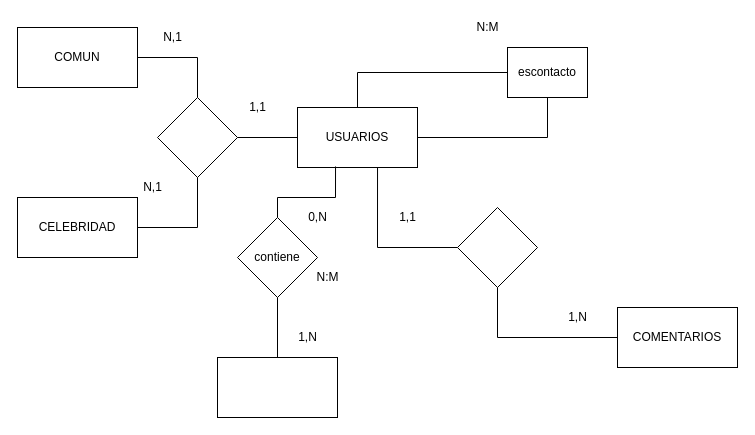
The diagram is 755 pixels wide and 435 high, and some of its shapes have lost their labels. The centre of each missing label's shape, as x and y in pixels:
"clasifica" goes at pixel 197 137.
"GRUPOS" goes at pixel 277 387.
"TIENE" goes at pixel 497 247.
